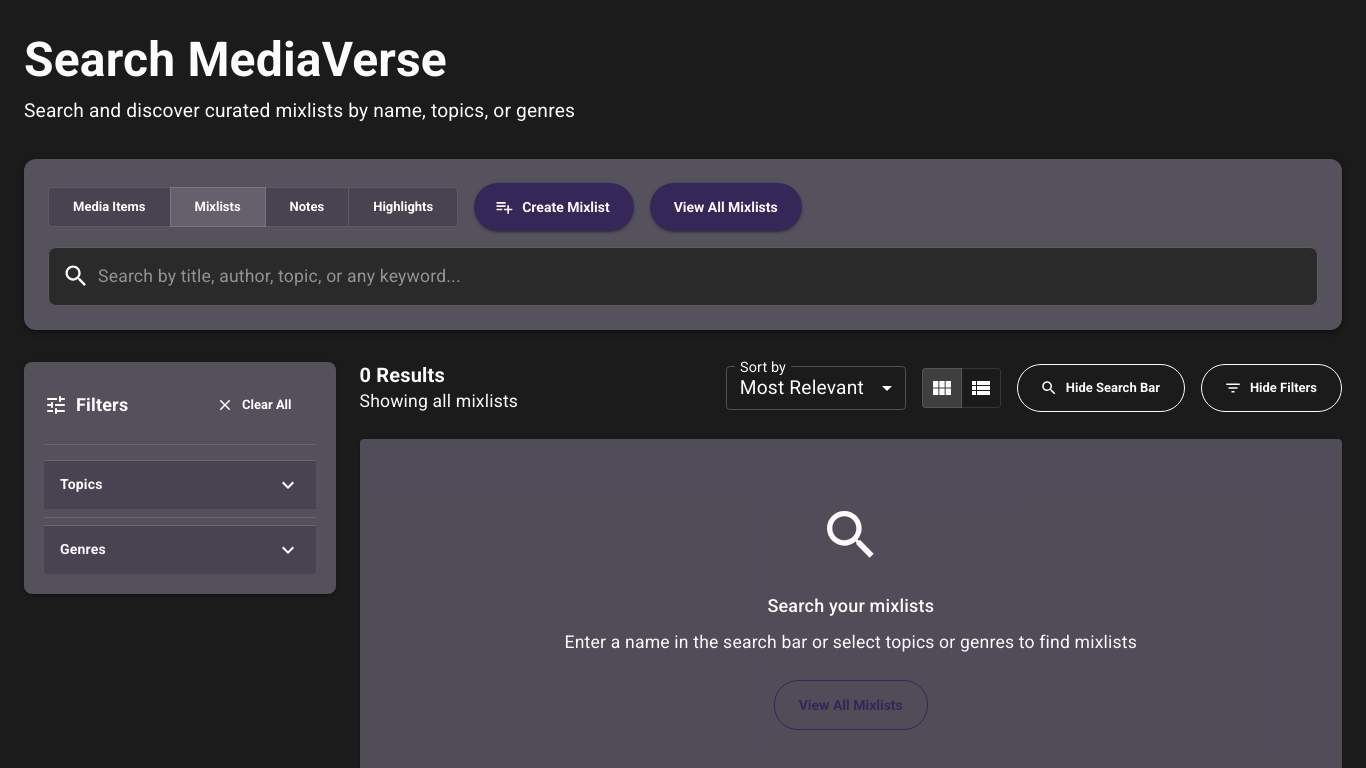
Test: Search modes › shows all mixlists via the View All Mixlists control
expect the heading "Search your mixlists" is shown: met, box [767,595,934,616]
Click the 1st button "View All Mixlists" at (726, 207), box [650,183,802,231]
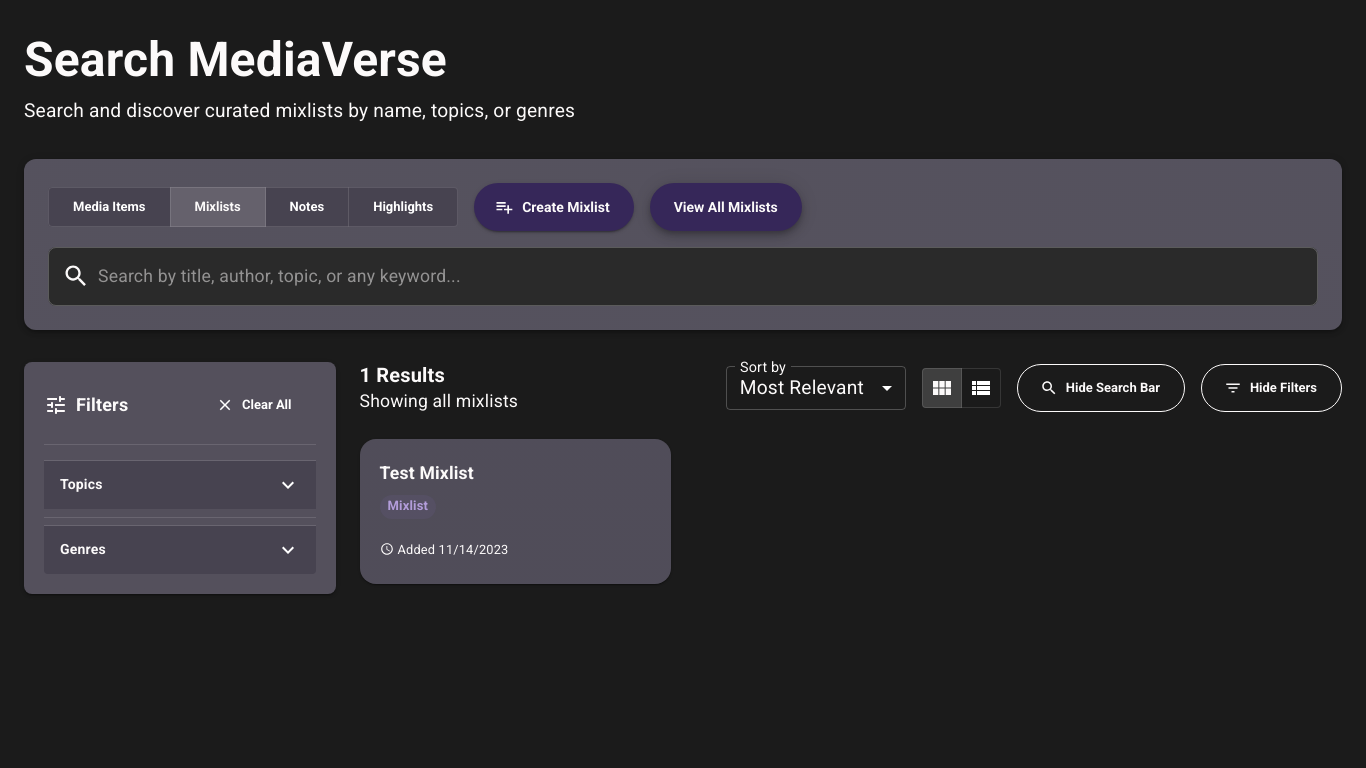
expect the heading "Test Mixlist" is shown: met, box [380,459,474,487]
